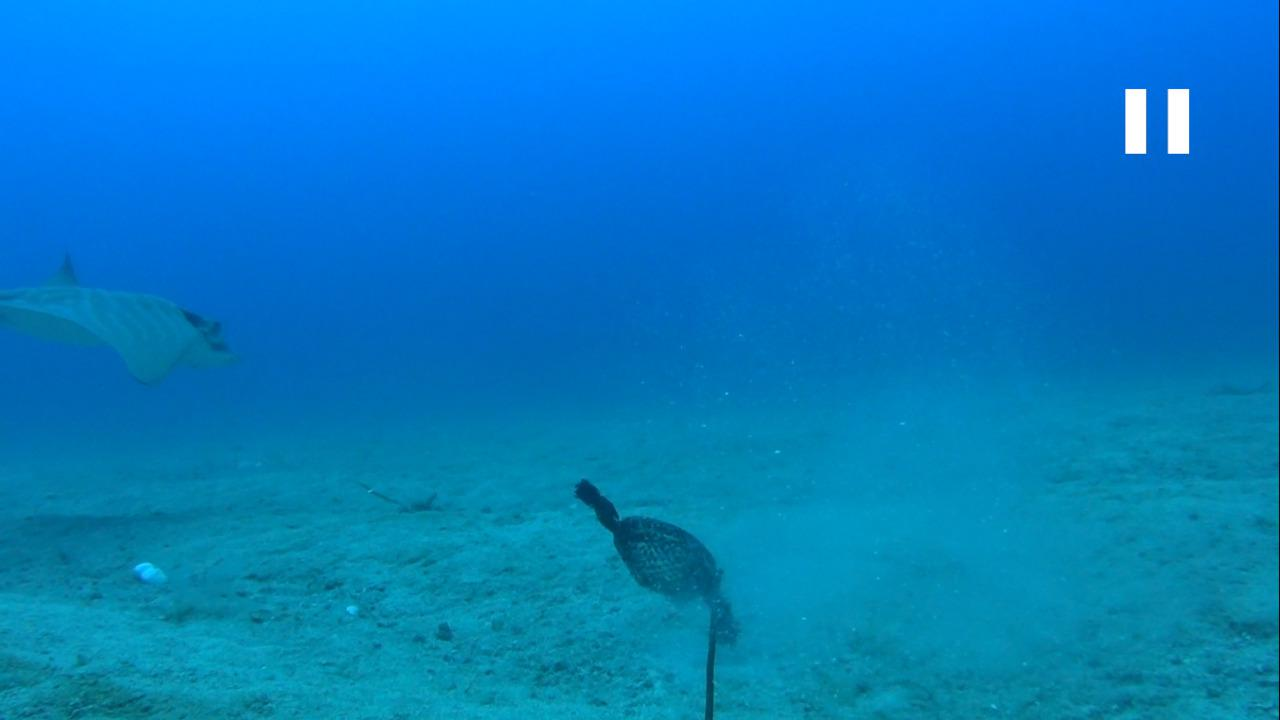myliobatis: (6, 246, 236, 389)
